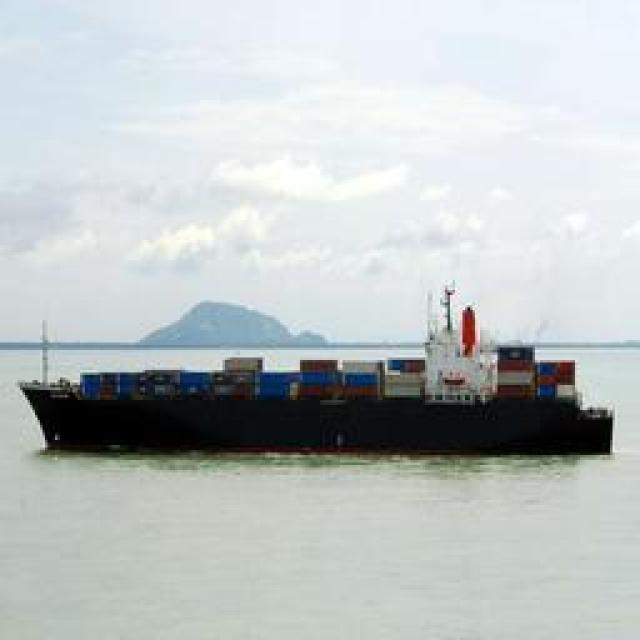CIV_Ship: (25, 355, 623, 450)
